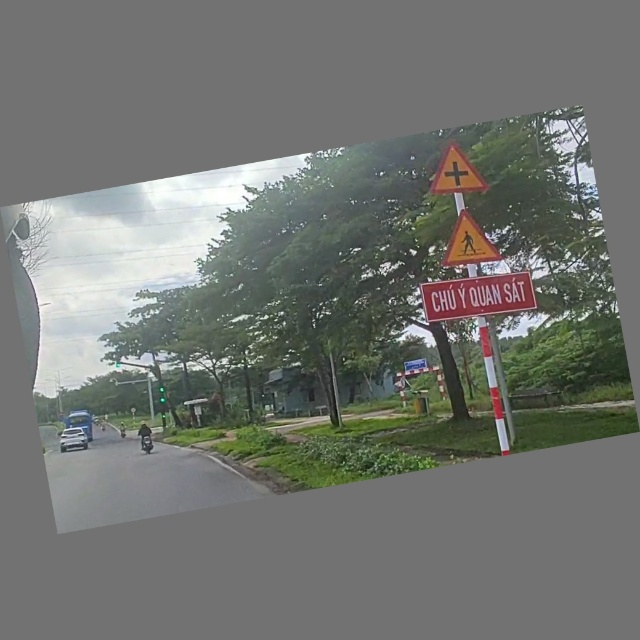W.205a: (419, 132, 497, 204)
W.224: (429, 202, 513, 276)
